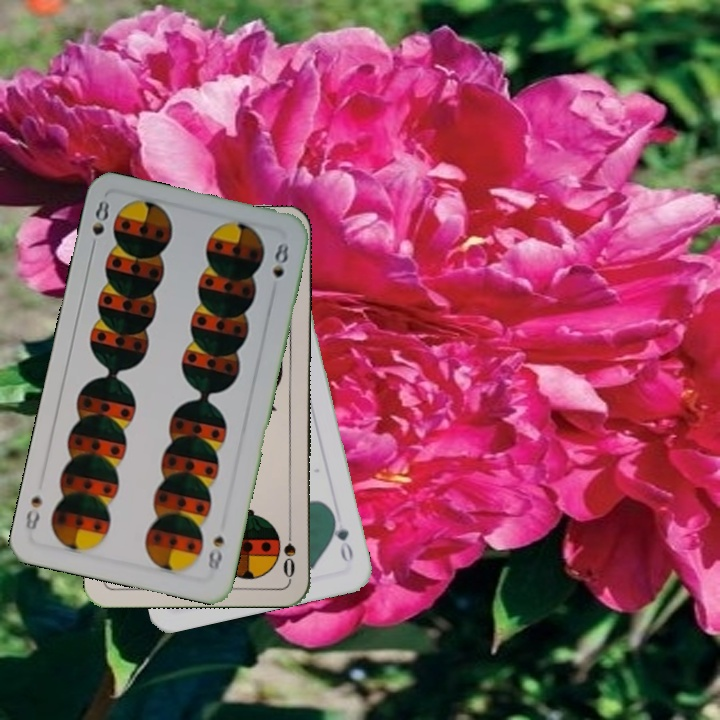GO: (328, 509, 356, 566)
S8: (86, 196, 112, 254), (203, 532, 227, 577)
SO: (279, 521, 299, 580)
